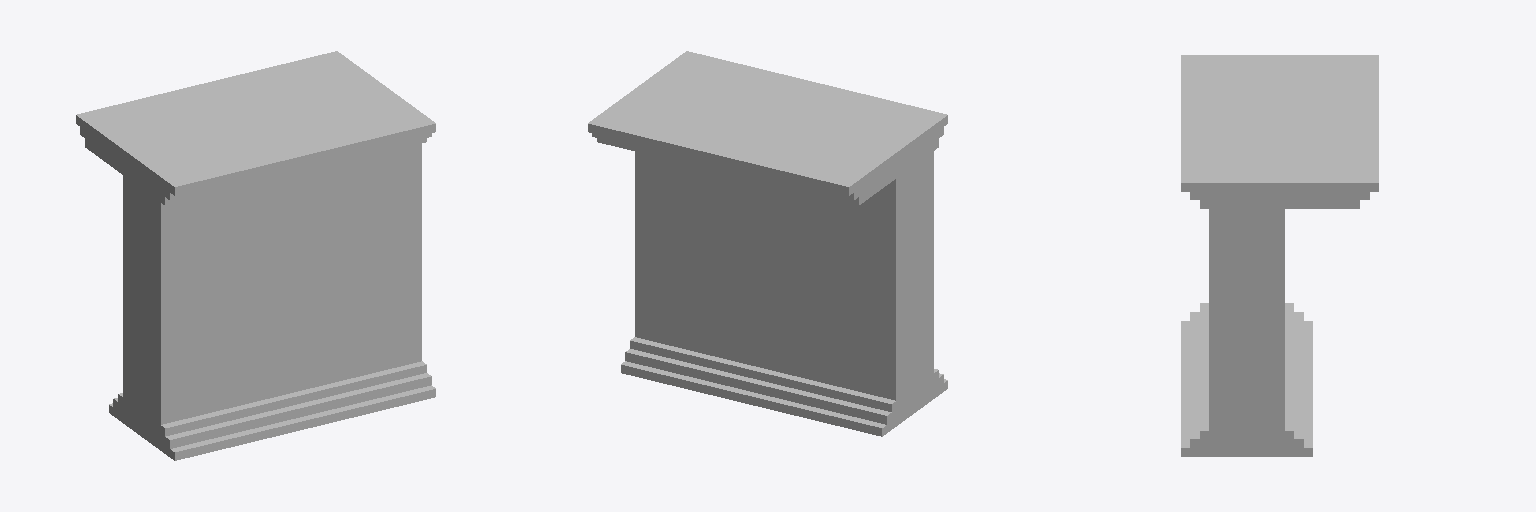
Rendered from frontCounter.obj.
3 renders of one model, left to right at view 1: azimuth 30°, elevation 25°; view 2: azimuth 150°, elevation 25°; view 3: azimuth 270°, elevation 25°, orthographic.
Visible parts, largest first — view 1: frontCounter; view 2: frontCounter; view 3: frontCounter.
Boxes of the visible parts, box(x1,y1,x2,y2) form: frontCounter: box(76, 51, 435, 460); frontCounter: box(588, 51, 947, 436); frontCounter: box(1181, 55, 1378, 456).
Bounding box in the file's own units: 2 × 2 × 1.31.